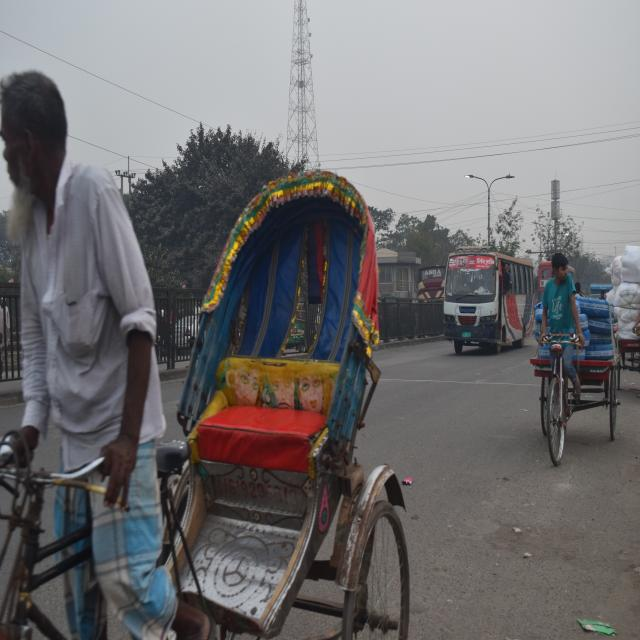bus: (443, 246, 534, 352), (538, 256, 572, 300), (412, 261, 444, 302)
